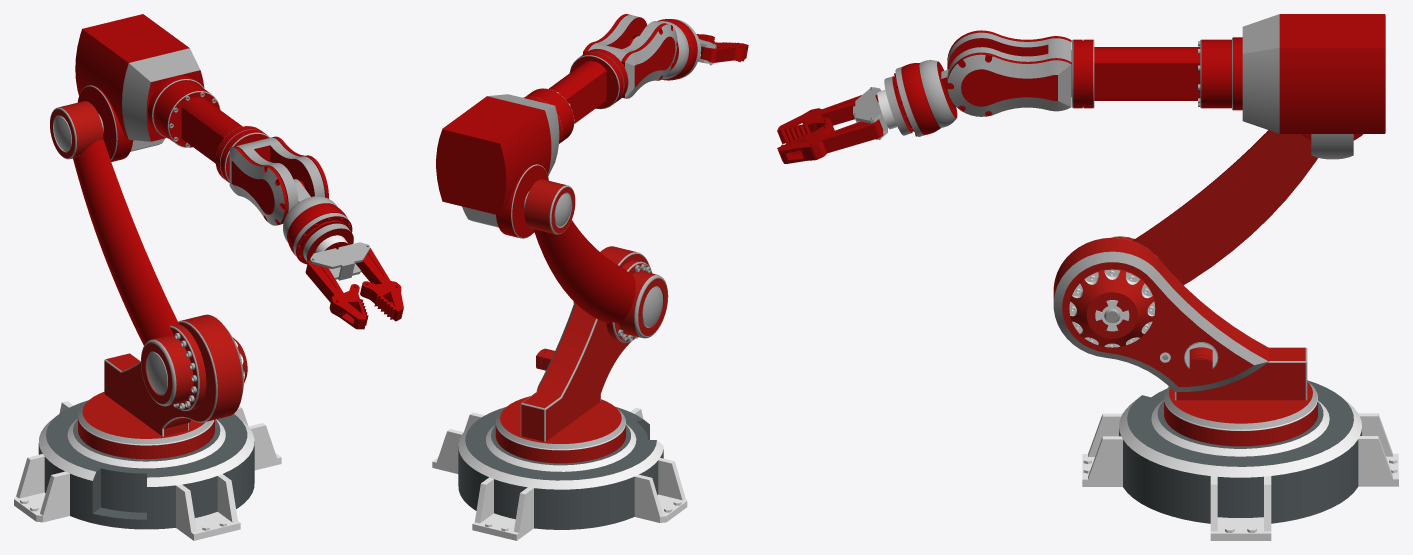
File: robot-arm-combined.glb
The picture shows the model from 3 angles, left to right: view 1: azimuth 30°, elevation 25°; view 2: azimuth 150°, elevation 25°; view 3: azimuth 270°, elevation 25°; orthographic projection. The views are drawn at different scales.
Visible parts, largest first — view 1: Part11:node_6a73fd9e_41d8_408e_8cbf_f3ec1f2e4fb3_mesh0, base2:imagetostl_mesh0, Part9:node_7b668f1c_a7b9_4493_a3dc_5bce81c5eedf_mesh0, base2:imagetostl_mesh1, Part3:node_7a612a2b_1098_4128_8802_e082e7e77be4_mesh0, Part3:node_7a612a2b_1098_4128_8802_e082e7e77be4_mesh1, Part11:node_6a73fd9e_41d8_408e_8cbf_f3ec1f2e4fb3_mesh1, Part5:node_69ffda2b_03cf_41be_ad99_2d906ec735f4_mesh1, Part5:node_69ffda2b_03cf_41be_ad99_2d906ec735f4_mesh0, Part3:node_7a612a2b_1098_4128_8802_e082e7e77be4_mesh2, Part8:node_85cff357_1d56_4b08_8752_910eb51bf672_mesh0, node_85cff357_1d56_4b08_8752_910eb51bf672_mesh0 (+5 smaller); view 2: Part11:node_6a73fd9e_41d8_408e_8cbf_f3ec1f2e4fb3_mesh0, Part9:node_7b668f1c_a7b9_4493_a3dc_5bce81c5eedf_mesh0, base2:imagetostl_mesh0, base2:imagetostl_mesh1, Part3:node_7a612a2b_1098_4128_8802_e082e7e77be4_mesh0, Part3:node_7a612a2b_1098_4128_8802_e082e7e77be4_mesh1, Part5:node_69ffda2b_03cf_41be_ad99_2d906ec735f4_mesh1, Part3:node_7a612a2b_1098_4128_8802_e082e7e77be4_mesh2, Part5:node_69ffda2b_03cf_41be_ad99_2d906ec735f4_mesh0, Part11:node_6a73fd9e_41d8_408e_8cbf_f3ec1f2e4fb3_mesh1, Part9:node_7b668f1c_a7b9_4493_a3dc_5bce81c5eedf_mesh2, Part8:node_85cff357_1d56_4b08_8752_910eb51bf672_mesh0 (+2 smaller); view 3: Part11:node_6a73fd9e_41d8_408e_8cbf_f3ec1f2e4fb3_mesh0, Part9:node_7b668f1c_a7b9_4493_a3dc_5bce81c5eedf_mesh0, base2:imagetostl_mesh0, base2:imagetostl_mesh1, Part3:node_7a612a2b_1098_4128_8802_e082e7e77be4_mesh1, Part9:node_7b668f1c_a7b9_4493_a3dc_5bce81c5eedf_mesh2, Part11:node_6a73fd9e_41d8_408e_8cbf_f3ec1f2e4fb3_mesh1, Part5:node_69ffda2b_03cf_41be_ad99_2d906ec735f4_mesh1, Part5:node_69ffda2b_03cf_41be_ad99_2d906ec735f4_mesh0, node_85cff357_1d56_4b08_8752_910eb51bf672_mesh0, Part9:node_7b668f1c_a7b9_4493_a3dc_5bce81c5eedf_mesh1, Part6:node_b30c6b41_109b_49d1_a214_d6b0e0a3ec65_mesh0 (+3 smaller).
Part boxes in pixels (x1,y1,x2,y2): Part11:node_6a73fd9e_41d8_408e_8cbf_f3ec1f2e4fb3_mesh0: (75, 14, 268, 182); base2:imagetostl_mesh0: (38, 400, 254, 529); Part9:node_7b668f1c_a7b9_4493_a3dc_5bce81c5eedf_mesh0: (78, 314, 247, 459); base2:imagetostl_mesh1: (14, 401, 281, 540); Part3:node_7a612a2b_1098_4128_8802_e082e7e77be4_mesh0: (73, 139, 178, 345); Part3:node_7a612a2b_1098_4128_8802_e082e7e77be4_mesh1: (50, 101, 206, 410); Part11:node_6a73fd9e_41d8_408e_8cbf_f3ec1f2e4fb3_mesh1: (77, 48, 269, 181); Part5:node_69ffda2b_03cf_41be_ad99_2d906ec735f4_mesh1: (229, 137, 324, 225); Part5:node_69ffda2b_03cf_41be_ad99_2d906ec735f4_mesh0: (231, 136, 328, 224); Part3:node_7a612a2b_1098_4128_8802_e082e7e77be4_mesh2: (50, 107, 199, 410); Part8:node_85cff357_1d56_4b08_8752_910eb51bf672_mesh0: (305, 260, 368, 329); node_85cff357_1d56_4b08_8752_910eb51bf672_mesh0: (355, 248, 403, 321); Part11:node_6a73fd9e_41d8_408e_8cbf_f3ec1f2e4fb3_mesh0: (436, 49, 628, 237); Part9:node_7b668f1c_a7b9_4493_a3dc_5bce81c5eedf_mesh0: (495, 246, 649, 463); base2:imagetostl_mesh0: (458, 406, 663, 529); base2:imagetostl_mesh1: (432, 407, 687, 540); Part3:node_7a612a2b_1098_4128_8802_e082e7e77be4_mesh0: (533, 220, 635, 323); Part3:node_7a612a2b_1098_4128_8802_e082e7e77be4_mesh1: (524, 179, 667, 342); Part5:node_69ffda2b_03cf_41be_ad99_2d906ec735f4_mesh1: (588, 15, 677, 98); Part3:node_7a612a2b_1098_4128_8802_e082e7e77be4_mesh2: (524, 185, 668, 342); Part5:node_69ffda2b_03cf_41be_ad99_2d906ec735f4_mesh0: (583, 14, 677, 98); Part11:node_6a73fd9e_41d8_408e_8cbf_f3ec1f2e4fb3_mesh1: (462, 49, 627, 238); Part9:node_7b668f1c_a7b9_4493_a3dc_5bce81c5eedf_mesh2: (496, 252, 649, 449); Part8:node_85cff357_1d56_4b08_8752_910eb51bf672_mesh0: (700, 41, 748, 62); Part11:node_6a73fd9e_41d8_408e_8cbf_f3ec1f2e4fb3_mesh0: (1073, 14, 1385, 140); Part9:node_7b668f1c_a7b9_4493_a3dc_5bce81c5eedf_mesh0: (1053, 238, 1317, 446); base2:imagetostl_mesh0: (1119, 380, 1361, 523); base2:imagetostl_mesh1: (1082, 396, 1398, 540); Part3:node_7a612a2b_1098_4128_8802_e082e7e77be4_mesh1: (1112, 130, 1317, 285); Part9:node_7b668f1c_a7b9_4493_a3dc_5bce81c5eedf_mesh2: (1053, 237, 1317, 429); Part11:node_6a73fd9e_41d8_408e_8cbf_f3ec1f2e4fb3_mesh1: (1072, 14, 1353, 159); Part5:node_69ffda2b_03cf_41be_ad99_2d906ec735f4_mesh1: (947, 32, 1071, 116); Part5:node_69ffda2b_03cf_41be_ad99_2d906ec735f4_mesh0: (947, 30, 1071, 116); node_85cff357_1d56_4b08_8752_910eb51bf672_mesh0: (777, 119, 883, 163); Part9:node_7b668f1c_a7b9_4493_a3dc_5bce81c5eedf_mesh1: (1069, 269, 1317, 430); Part6:node_b30c6b41_109b_49d1_a214_d6b0e0a3ec65_mesh0: (894, 61, 957, 136).
Size of the model in its own units: 29.89 by 47.89 by 58.69.
